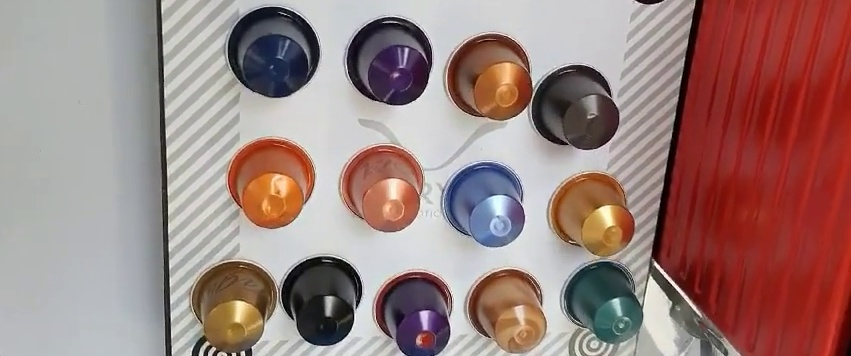capsule_1: (223, 3, 322, 102)
capsule_10: (277, 252, 362, 344)
capsule_11: (374, 271, 452, 356)
capsule_12: (462, 267, 548, 356)
capsule_13: (557, 257, 643, 345)
capsule_2: (344, 12, 437, 108)
capsule_3: (441, 28, 534, 122)
capsule_4: (529, 63, 622, 155)
capsule_5: (224, 135, 312, 229)
capsule_6: (340, 145, 427, 230)
capsule_7: (440, 159, 527, 248)
capsule_8: (547, 172, 635, 257)
capsule_9: (188, 261, 277, 347)
